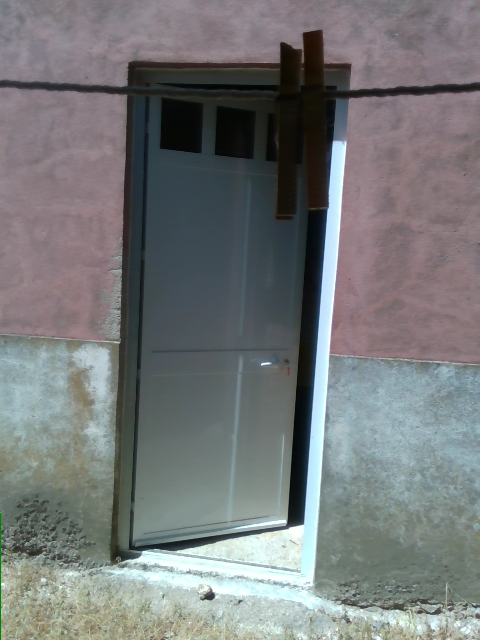semi: (110, 67, 352, 587)
